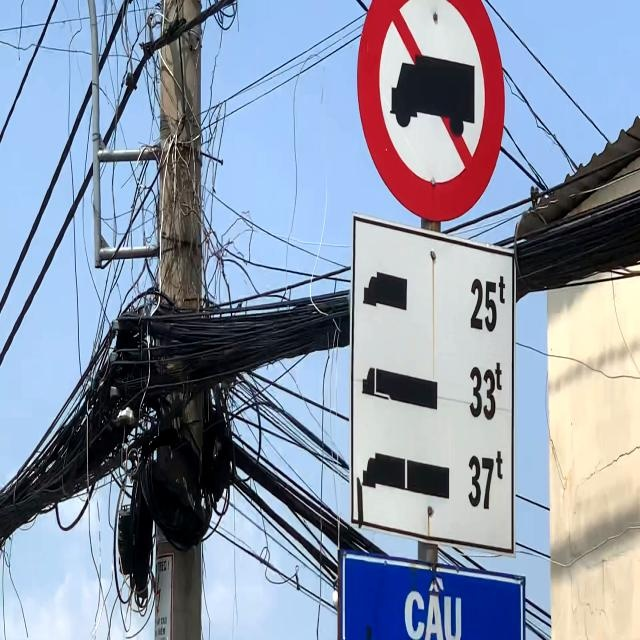bien_chi_dan: (355, 0, 500, 220)
